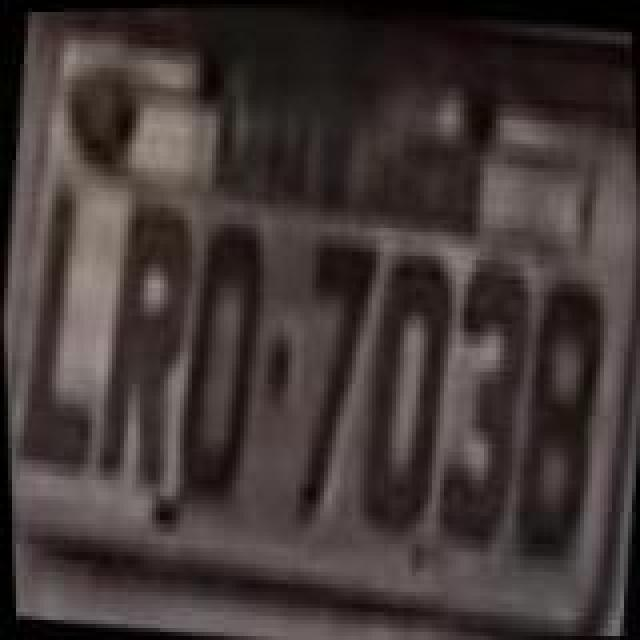3: (418, 246, 542, 546)
7: (274, 228, 390, 536)
8: (496, 266, 620, 566)
L: (2, 172, 118, 480)
O: (338, 242, 462, 542), (162, 210, 278, 506)
R: (78, 190, 206, 494)
